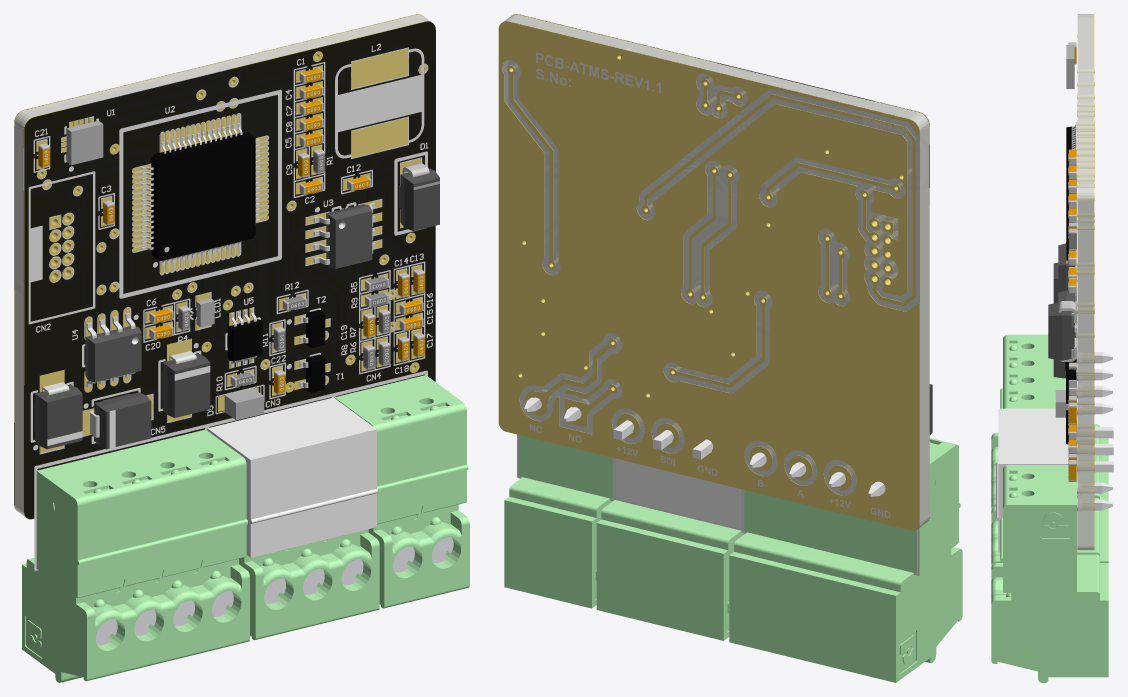
The model's file is ATMS.glb.
The picture shows the model from 3 angles, left to right: view 1: azimuth 30°, elevation 25°; view 2: azimuth 150°, elevation 25°; view 3: azimuth 270°, elevation 25°; orthographic projection. The views are drawn at different scales.
Visible parts, largest first — view 1: Solder_Top, ComponentBody.1, Top, ComponentBody.3, ComponentBody.6, Core, ComponentBody.10, ComponentBody.112, ComponentBody.5, ComponentBody.8, DGND, Pad.38 (+20 smaller); view 2: DGND, Core, ComponentBody.3, ComponentBody.5, ComponentBody.1, ComponentBody.8, ComponentBody.6, ComponentBody.10, +3V3, RST, Bottom, CN2 (+5 smaller); view 3: ComponentBody.8, ComponentBody.10, Core, ComponentBody.6, ComponentBody.1, DGND, ComponentBody.80, ComponentBody.5, ComponentBody.3, ComponentBody, ComponentBody.112, ComponentBody.9 (+9 smaller).
Part boxes in pixels (x1,y1,x2,y2): Solder_Top: [24, 21, 435, 519]; ComponentBody.1: [36, 429, 247, 598]; Top: [28, 43, 432, 570]; ComponentBody.3: [22, 558, 249, 682]; ComponentBody.6: [207, 397, 377, 557]; Core: [14, 14, 430, 516]; ComponentBody.10: [334, 375, 468, 524]; ComponentBody.112: [151, 131, 255, 260]; ComponentBody.5: [239, 529, 379, 639]; ComponentBody.8: [368, 504, 469, 608]; DGND: [14, 14, 433, 516]; Pad.38: [132, 113, 267, 273]; DGND: [498, 14, 929, 530]; Core: [502, 14, 929, 528]; ComponentBody.3: [729, 532, 962, 682]; ComponentBody.5: [596, 500, 744, 640]; ComponentBody.1: [744, 438, 960, 573]; ComponentBody.8: [504, 477, 612, 608]; ComponentBody.6: [613, 420, 740, 528]; ComponentBody.10: [519, 435, 612, 498]; +3V3: [507, 65, 902, 387]; RST: [642, 94, 915, 305]; Bottom: [529, 52, 908, 517]; CN2: [869, 216, 897, 287]; ComponentBody.8: [991, 554, 1108, 682]; ComponentBody.10: [1000, 465, 1076, 592]; Core: [1078, 14, 1093, 550]; ComponentBody.6: [996, 408, 1113, 552]; ComponentBody.1: [1000, 334, 1065, 408]; DGND: [1077, 14, 1094, 549]; ComponentBody.80: [1048, 302, 1074, 360]; ComponentBody.5: [991, 498, 1108, 566]; ComponentBody.3: [991, 424, 1108, 509]; ComponentBody: [1077, 351, 1112, 414]; ComponentBody.112: [1066, 126, 1075, 260]; ComponentBody.9: [1077, 481, 1112, 511].
Bounding box in the file's own units: 4.05 × 5.2 × 1.16.
